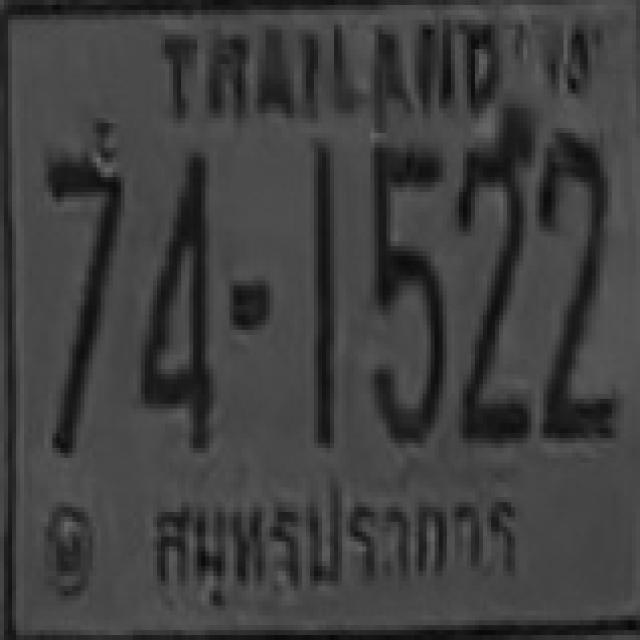0: (368, 246, 445, 438)
1: (310, 140, 334, 367)
2: (537, 202, 614, 433)
4: (135, 150, 211, 446)
7: (46, 155, 123, 446), (46, 155, 123, 382), (46, 153, 123, 360)
SamutPrakan: (136, 478, 538, 604)
